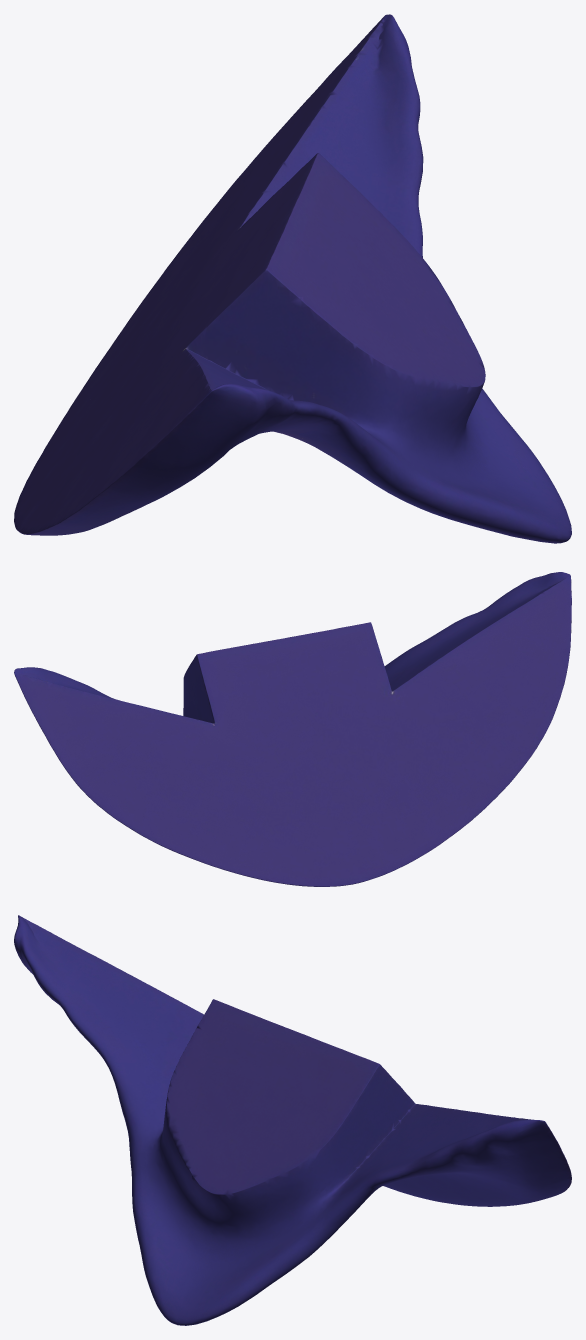
The picture shows the model from 3 angles, top to bottom: view 1: azimuth 30°, elevation 25°; view 2: azimuth 150°, elevation 25°; view 3: azimuth 270°, elevation 25°; orthographic projection. The views are drawn at different scales.
Visible parts, largest first — view 1: Mesh::generatedModels/soWBqQ4m4del24PX2cOa.gltf; view 2: Mesh::generatedModels/soWBqQ4m4del24PX2cOa.gltf; view 3: Mesh::generatedModels/soWBqQ4m4del24PX2cOa.gltf.
Boxes of the visible parts, bbox=[...] form: Mesh::generatedModels/soWBqQ4m4del24PX2cOa.gltf: bbox=[14, 14, 571, 543]; Mesh::generatedModels/soWBqQ4m4del24PX2cOa.gltf: bbox=[14, 572, 571, 886]; Mesh::generatedModels/soWBqQ4m4del24PX2cOa.gltf: bbox=[14, 915, 571, 1325].
Bounding box in the file's own units: 0.8824 × 0.49 × 1.
Materials: 1 (1 with a texture image).
